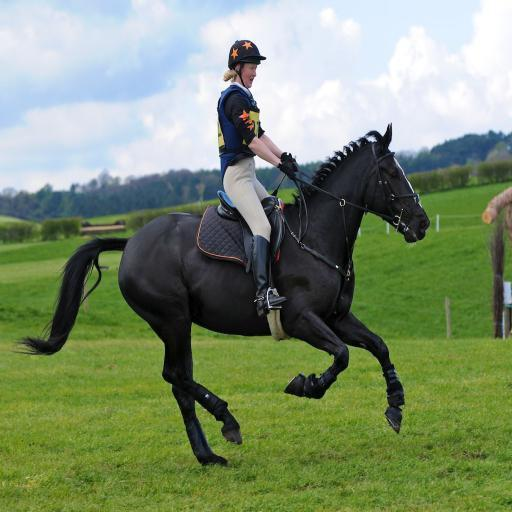horse: (9, 122, 433, 468)
